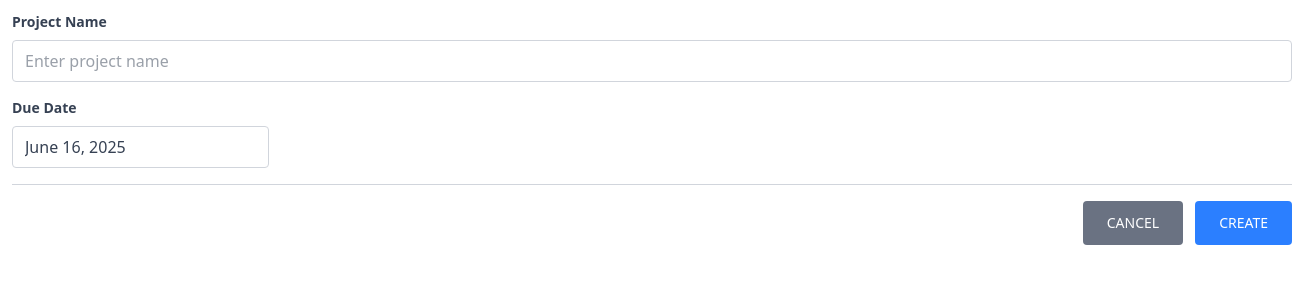
Test: CreateProjectForm › shows error message when project creation fails
Type "Test Project" into the field labelled "Project Name" at (652, 61), box [12,40,1292,82]
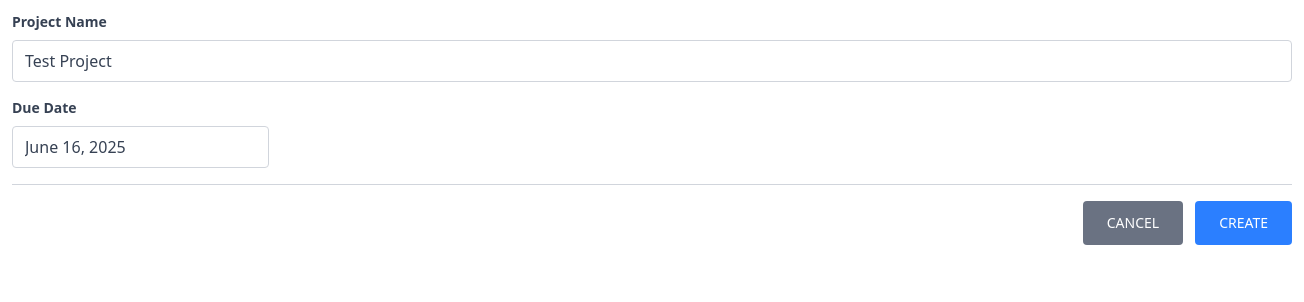
Click the button "Create" at (1244, 223), box [1195,201,1292,245]
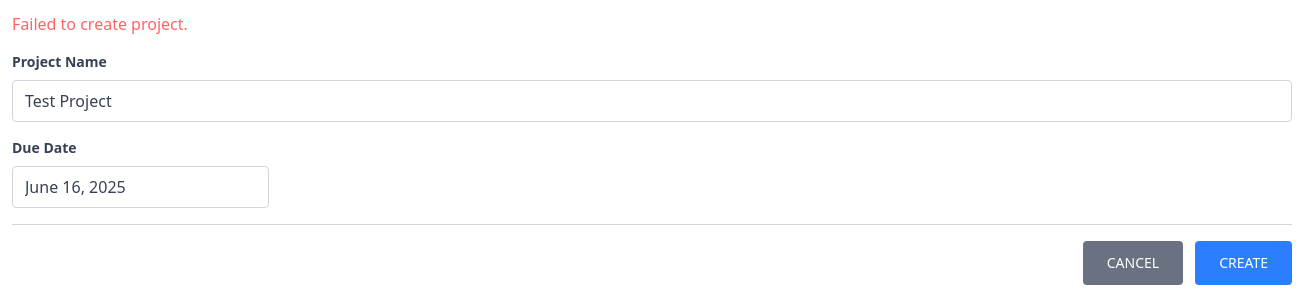
Now the text "Failed to create project." is shown, box [12,13,188,35]
